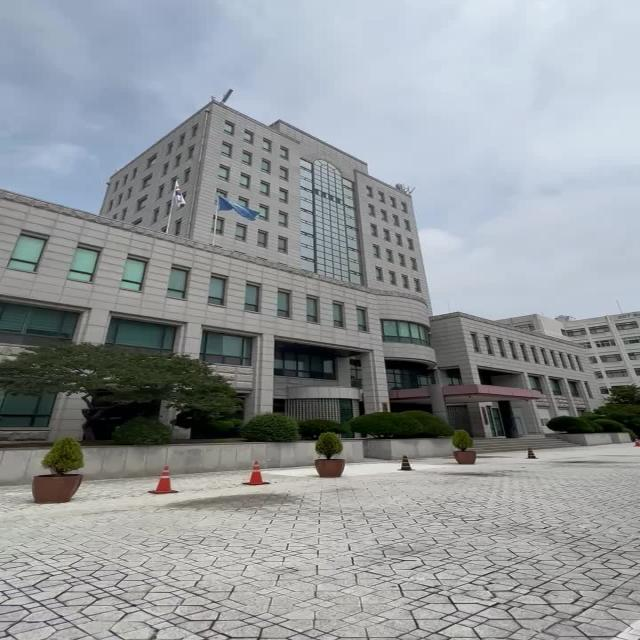building: (74, 107, 452, 362)
